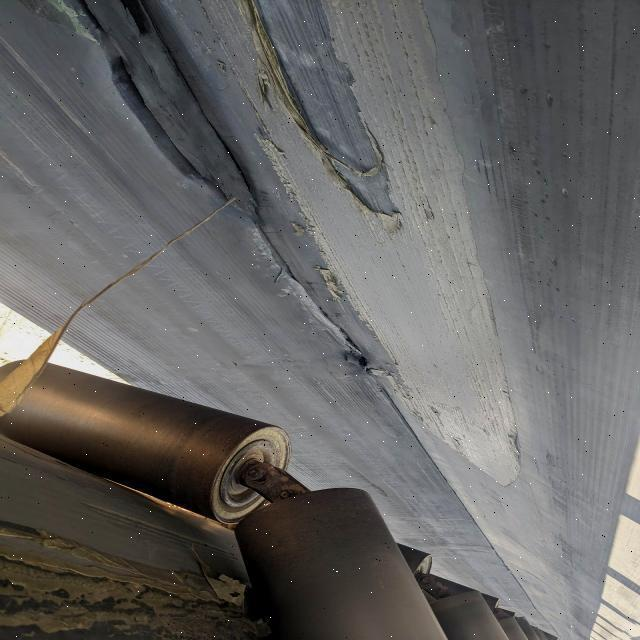Tear: (19, 0, 408, 397), (229, 0, 406, 235)
